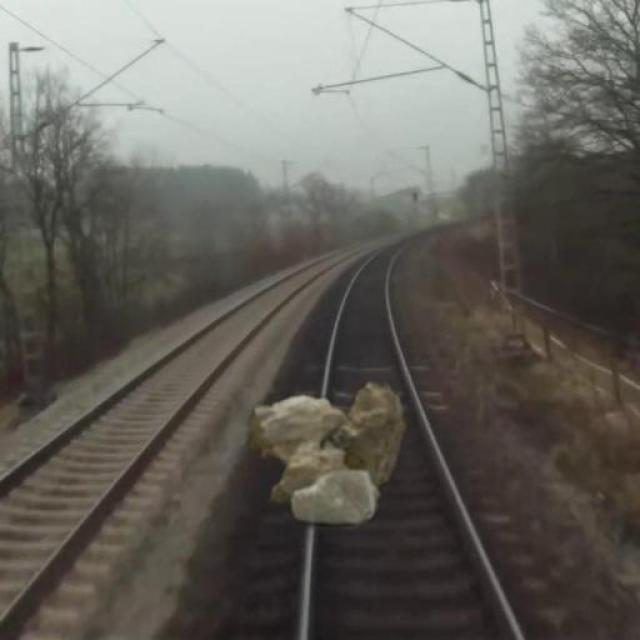Stone: (245, 375, 410, 529)
